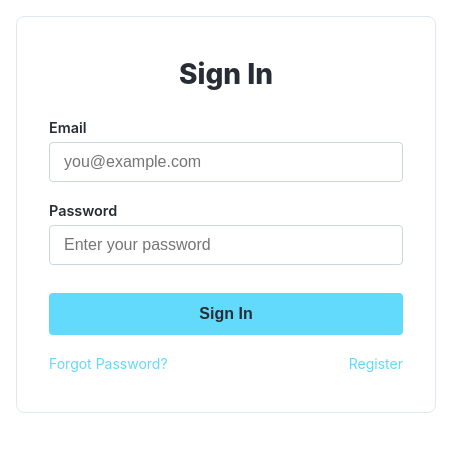
Test: LoginPage › shows required error when email is empty and form is submitted
Step 1. Click the button "Sign In" → (226, 314), box x1=49 y1=293 x2=403 y2=335
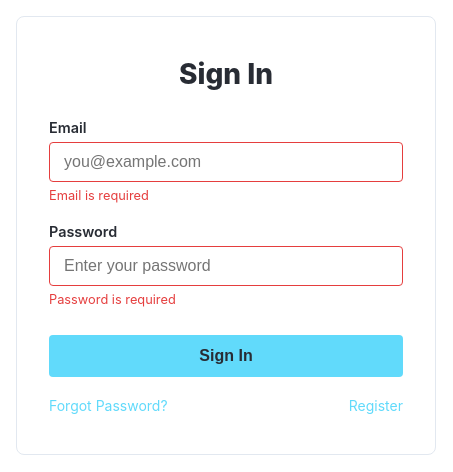
Check: the text "Email is required" is shown, box x1=49 y1=188 x2=149 y2=203
